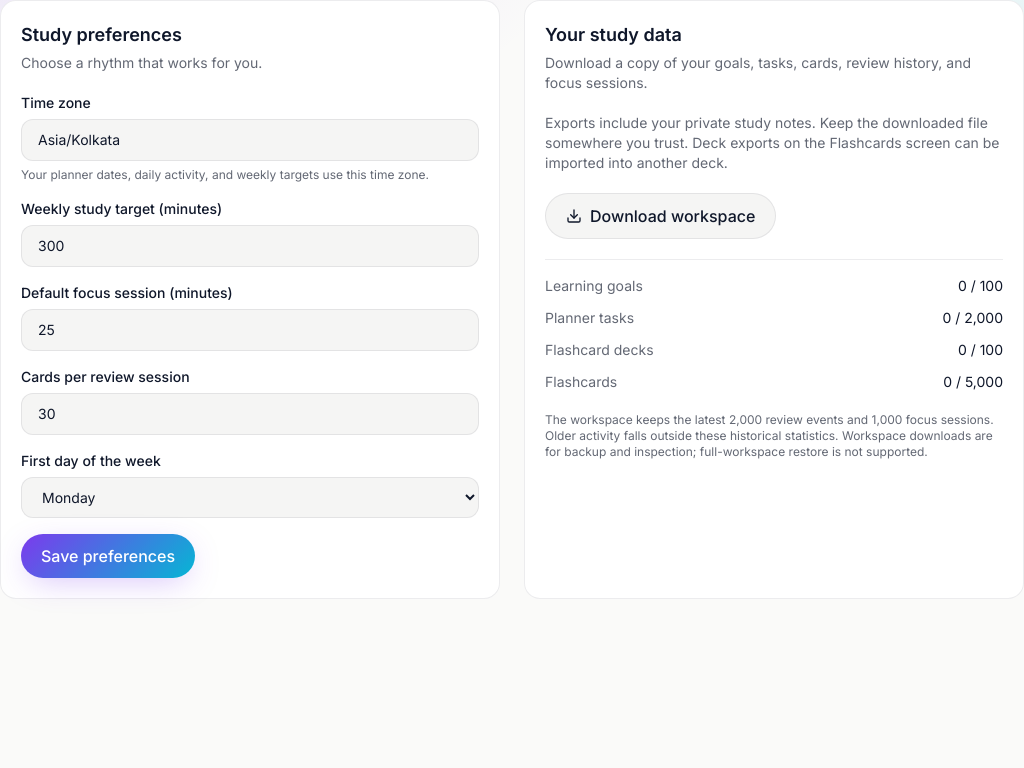
Test: focus timer and review interactions › saves timezone and timing preferences through the form
Replace the text in the field labelled "Time zone" with "Europe/London" at (250, 140), box [21,119,479,161]
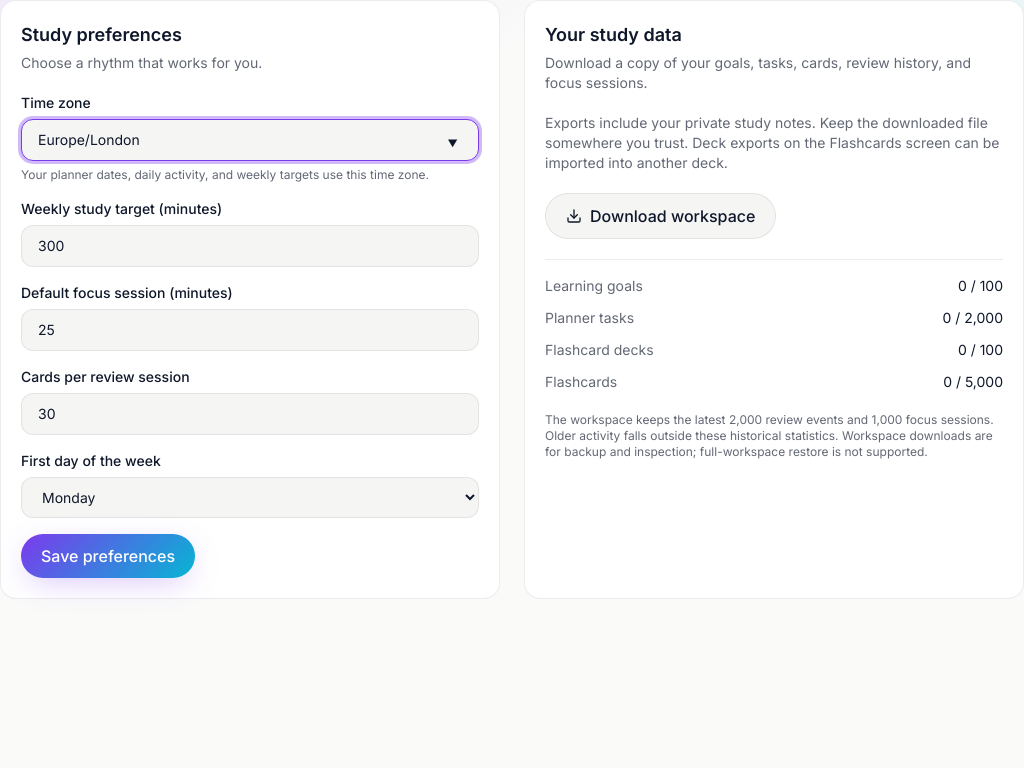
Click the button "Save preferences" at (108, 556), box [21,534,195,578]
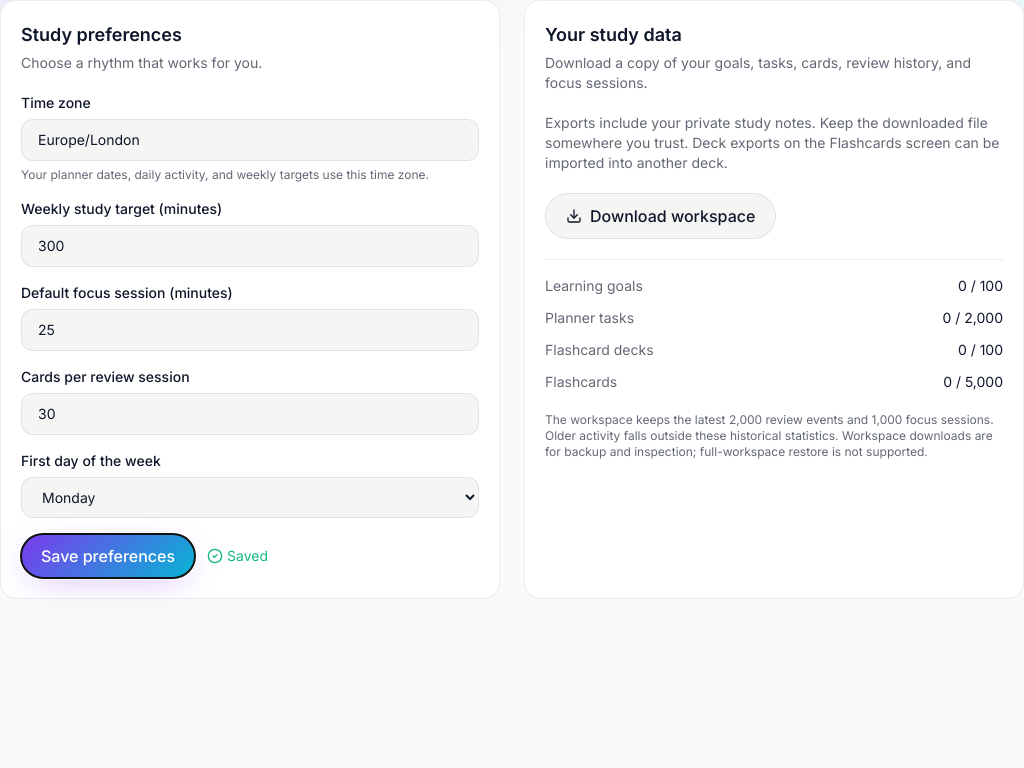
Expected: the message reads "Saved", [227,547,268,564]
